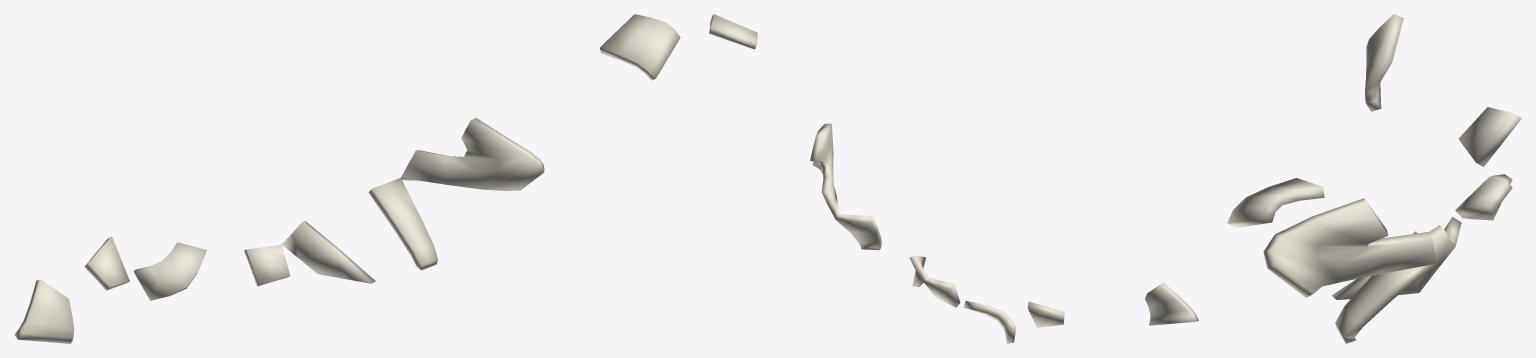
3 views of the same model, side by side, from view 1: azimuth 30°, elevation 25°; view 2: azimuth 150°, elevation 25°; view 3: azimuth 270°, elevation 25° (orthographic). The views are drawn at different scales.
Parts seen in each view (by area): view 1: ZA_2ec4aa736b5a44a7; view 2: ZA_2ec4aa736b5a44a7; view 3: ZA_2ec4aa736b5a44a7.
Part boxes in pixels (x1,y1,x2,y2): ZA_2ec4aa736b5a44a7: (14, 14, 680, 343); ZA_2ec4aa736b5a44a7: (709, 14, 1198, 343); ZA_2ec4aa736b5a44a7: (1227, 14, 1521, 343).
Bounding box in the file's own units: 0.0429 × 0.0152 × 0.0132.
